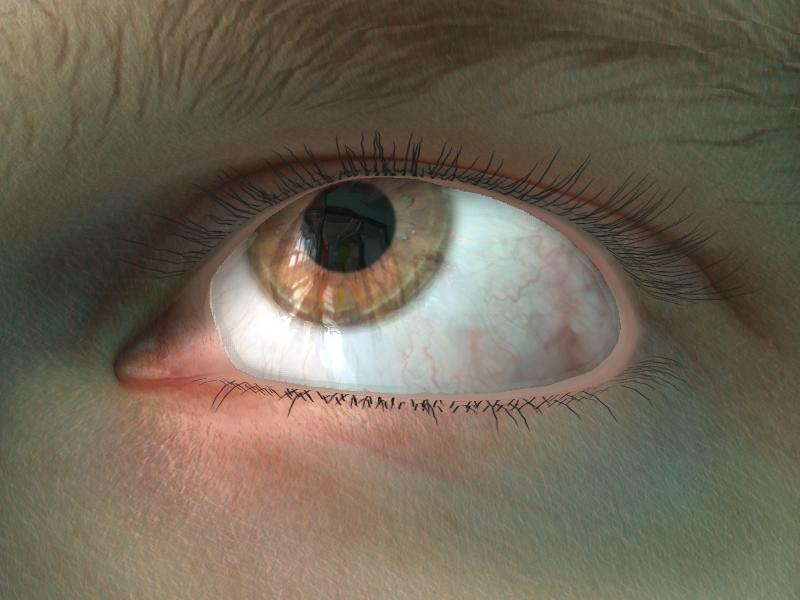eye: (243, 178, 448, 323)
